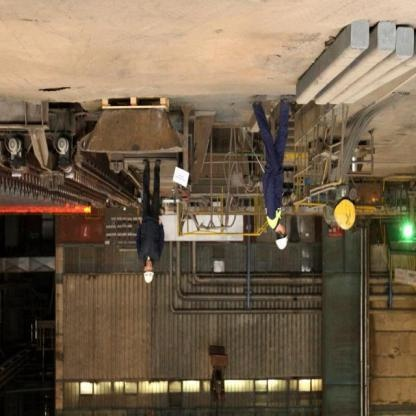white: (275, 232, 291, 254), (142, 270, 156, 286)
